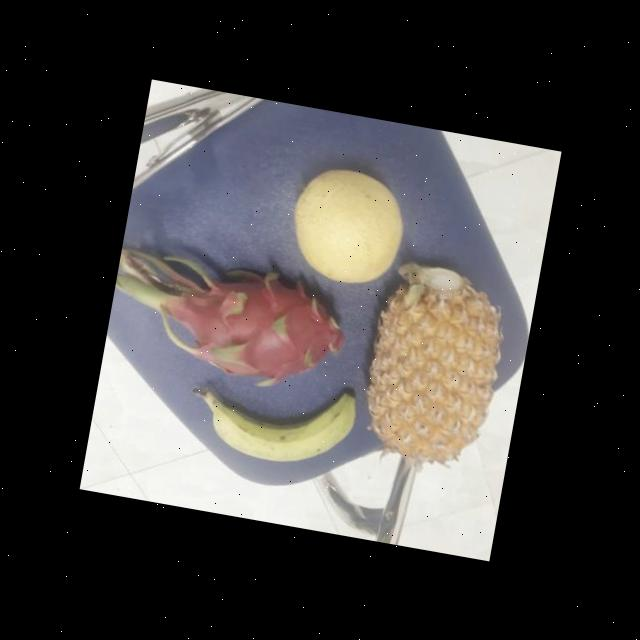banana: (199, 369, 363, 475)
pear: (282, 162, 414, 292)
pineapple: (353, 253, 518, 478)
pitaya: (168, 255, 366, 400)
